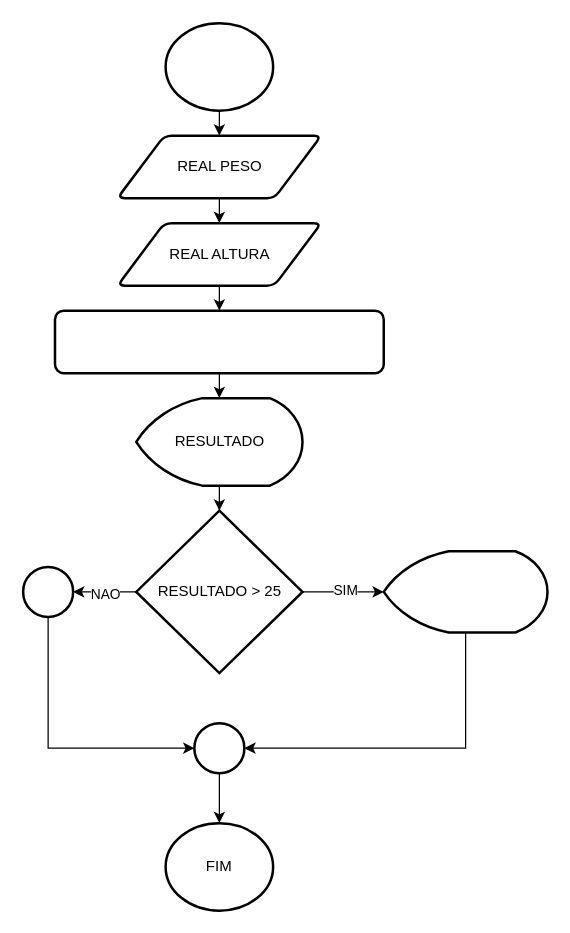
Some shapes in this 570 by 933 pixel diagram are drawn without their labels. The centre of each missing label's shape, as x and y in pixels:
"CALCULAR IMC PESO / (ALTURA*ALTURA)" belongs at point (218, 341).
"INDICE ACIMA!!" belongs at point (465, 591).
"INICIO" belongs at point (219, 66).
